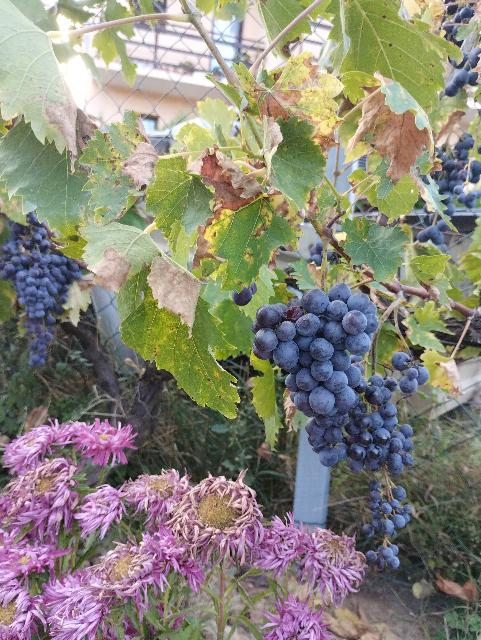grapes: (252, 282, 379, 466), (320, 375, 415, 569), (0, 212, 82, 366), (392, 351, 430, 394)
